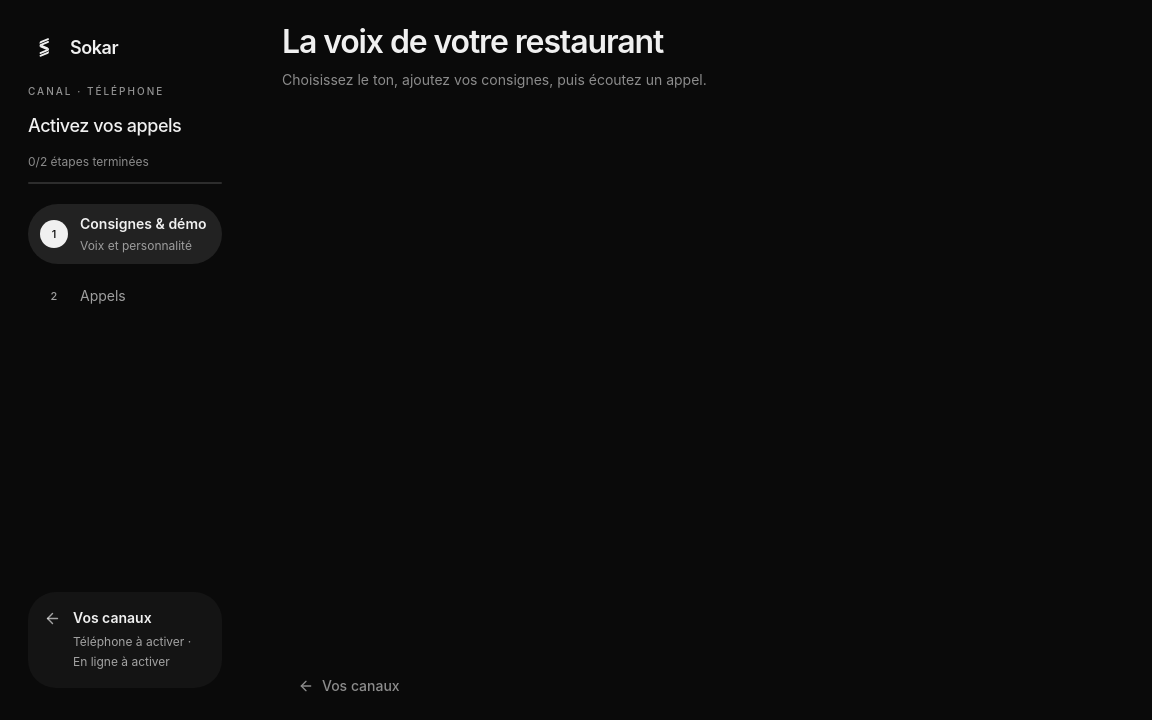
Test: ramène aux canaux depuis la première étape d’un canal et via le lien direct
Click the button "Vos canaux". click: click(349, 686)
box: [282,664,416,708]
(page scrolled)
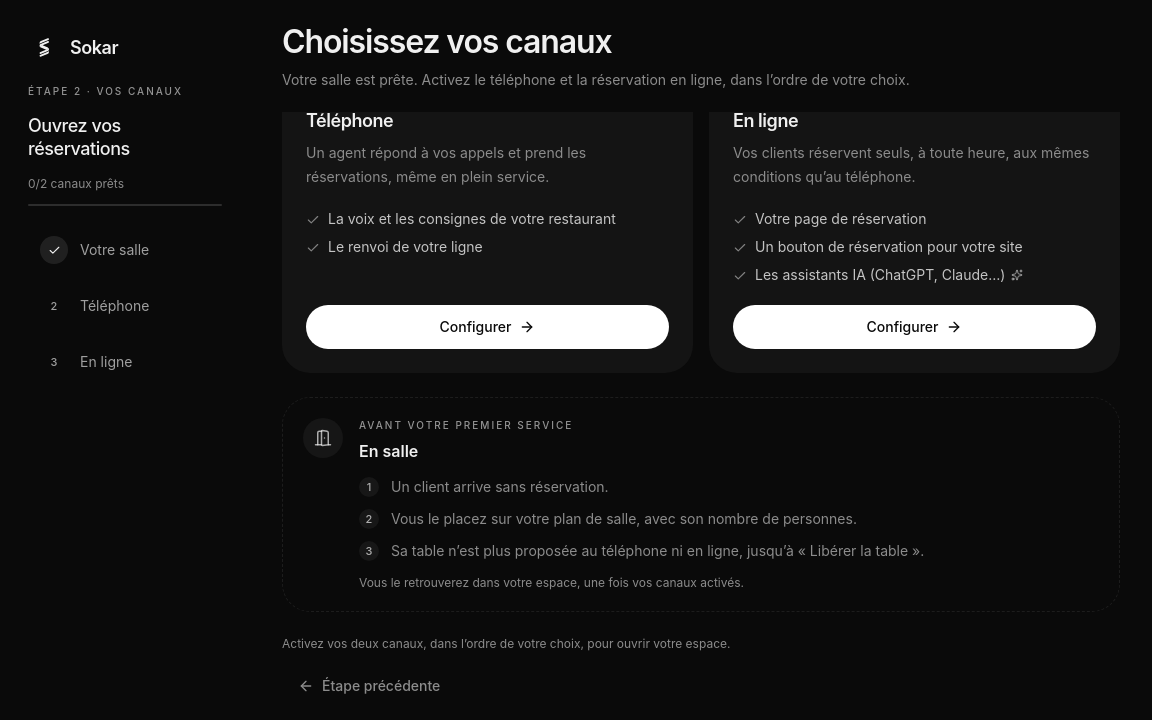
Result: the heading "Choisissez vos canaux" is shown at [282,22,612,61]
Result: the text "Activez vos deux canaux" is shown at [282,636,730,651]
